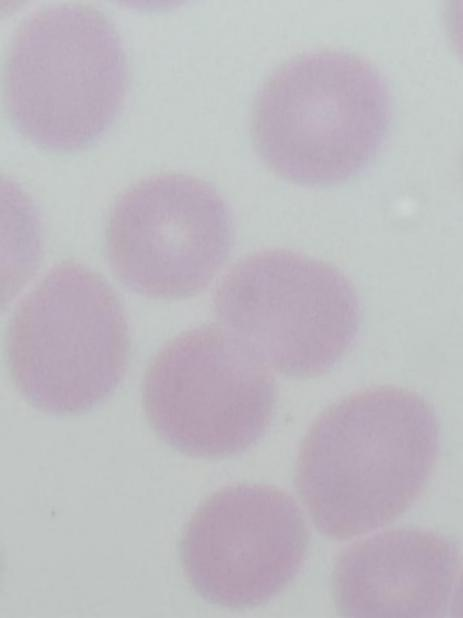Uninfected: (293, 382, 436, 540), (252, 47, 397, 184), (8, 2, 128, 154), (142, 326, 278, 460), (8, 267, 129, 408), (225, 251, 357, 378), (107, 171, 231, 302), (182, 484, 311, 602), (322, 534, 463, 618)
